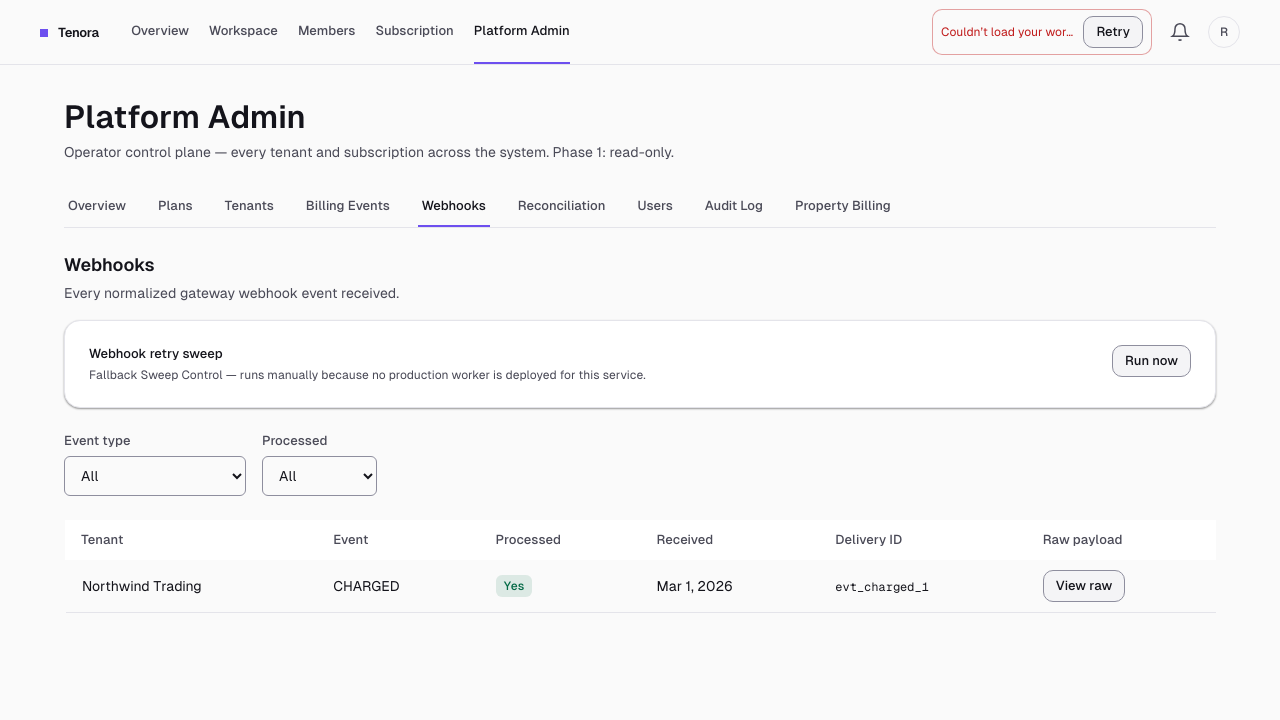
Test: /admin/webhooks — raw payload (Root tier) › fetches and shows the payload only when a Root operator asks
Step 1. Click the button "View raw" → coordinates (1084, 586), box [1043,570,1125,602]
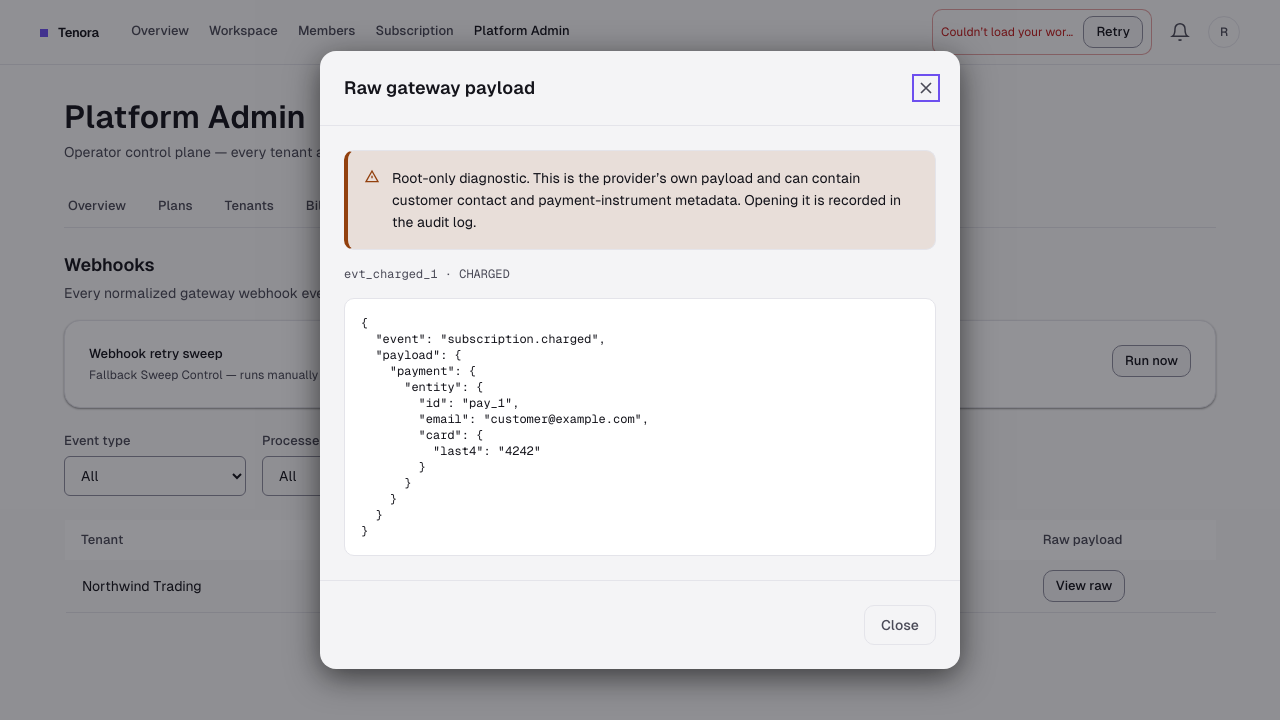
Now the dialog is shown, box [320,51,960,669]
Now the text "customer@example.com" is shown, box [361,315,649,539]
